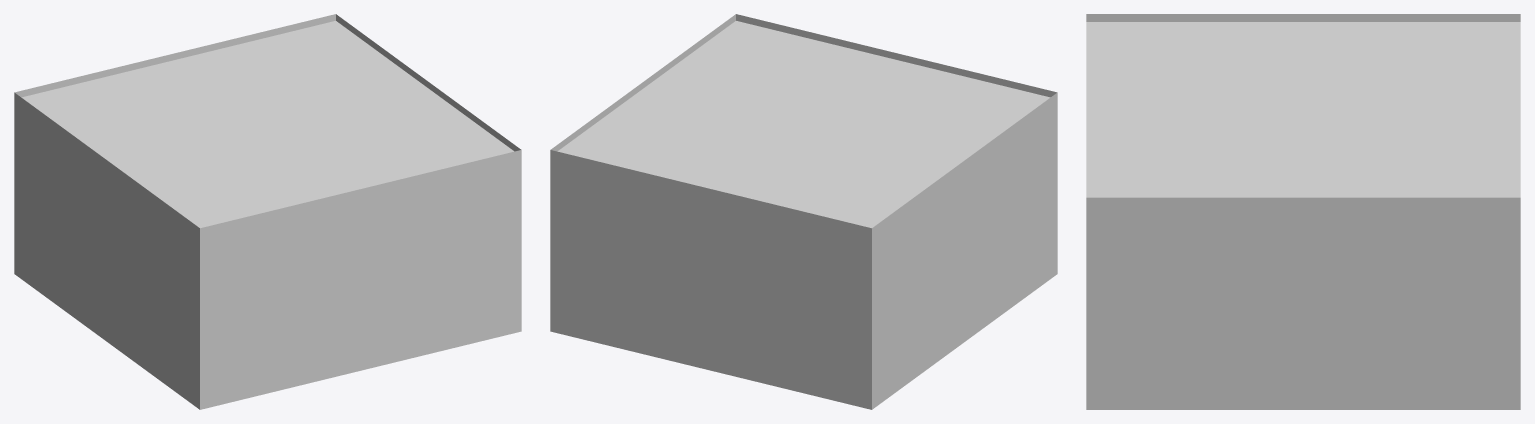
Rendered from Office Box v1.fbx.
3 views of the same model, side by side, from view 1: azimuth 30°, elevation 25°; view 2: azimuth 150°, elevation 25°; view 3: azimuth 270°, elevation 25° (orthographic). The views are drawn at different scales.
Parts seen in each view (by area): view 1: Wall.001, Ceiling, Wall, Wall.003, Wall.002; view 2: Wall.003, Ceiling, Wall, Wall.001, Wall.002; view 3: Wall.002, Ceiling, Wall.
Boxes of the visible parts, box(x1,y1,x2,y2) form: Wall.001: box(200, 150, 521, 409); Ceiling: box(21, 21, 514, 228); Wall: box(14, 92, 199, 409); Wall.003: box(15, 14, 335, 97); Wall.002: box(336, 14, 521, 151); Wall.003: box(550, 150, 871, 409); Ceiling: box(557, 21, 1050, 228); Wall: box(872, 92, 1057, 409); Wall.001: box(736, 14, 1056, 97); Wall.002: box(550, 14, 735, 151); Wall.002: box(1086, 197, 1520, 409); Ceiling: box(1086, 22, 1520, 197); Wall: box(1086, 14, 1520, 21).
Bounding box in the file's own units: 2000 × 1080 × 2000.
Materials: 4 (2 with a texture image).
